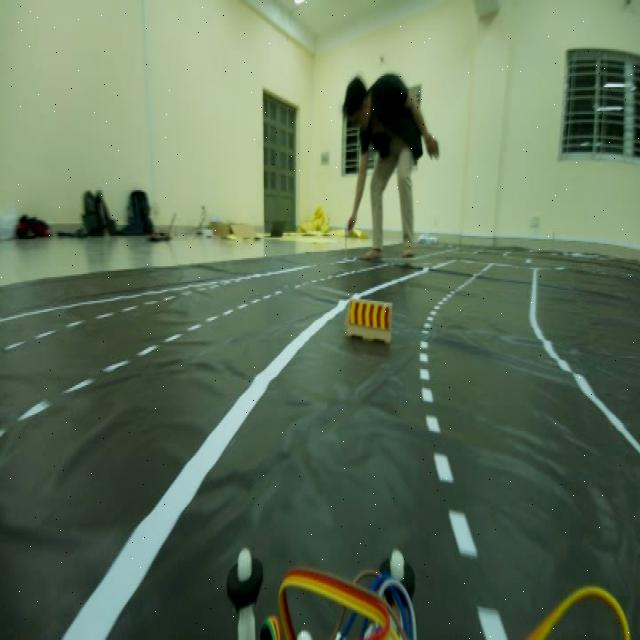roadblock: (339, 283, 399, 349)
